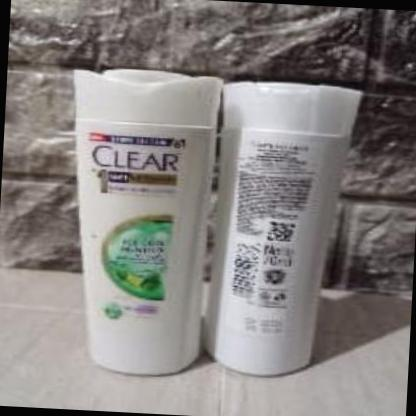objects: (58, 66, 215, 374), (199, 80, 360, 376)
